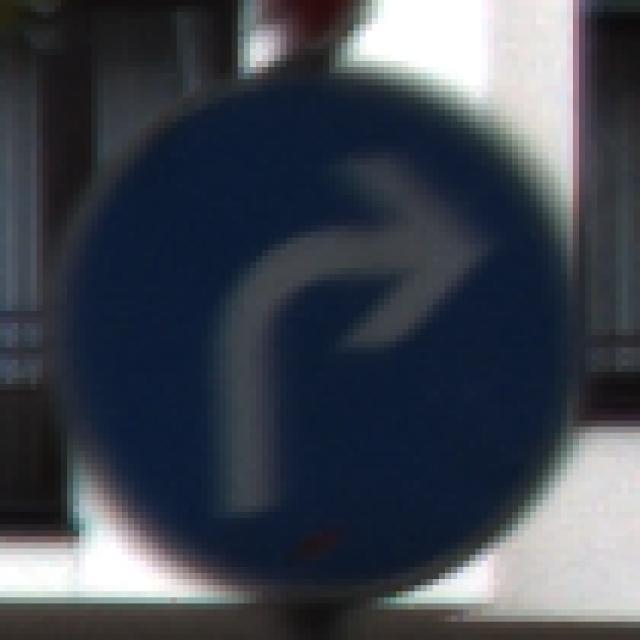compulsary turn right ahead: (47, 73, 585, 601)
